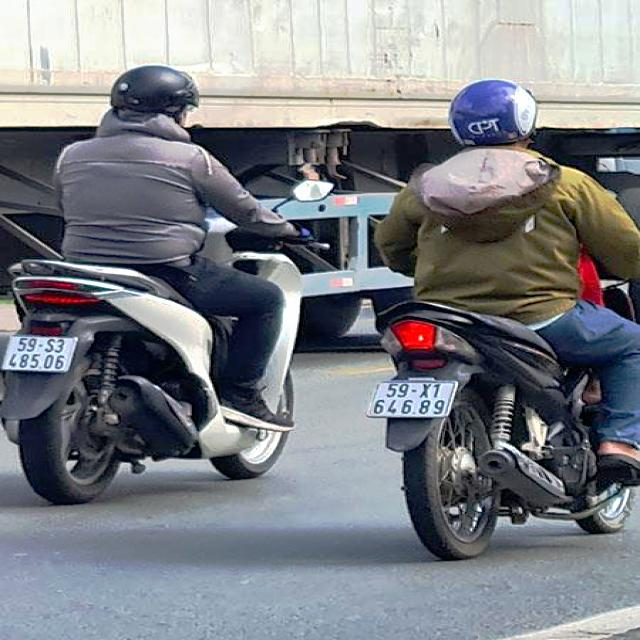license_plate: (367, 381, 459, 419), (2, 337, 79, 372)
